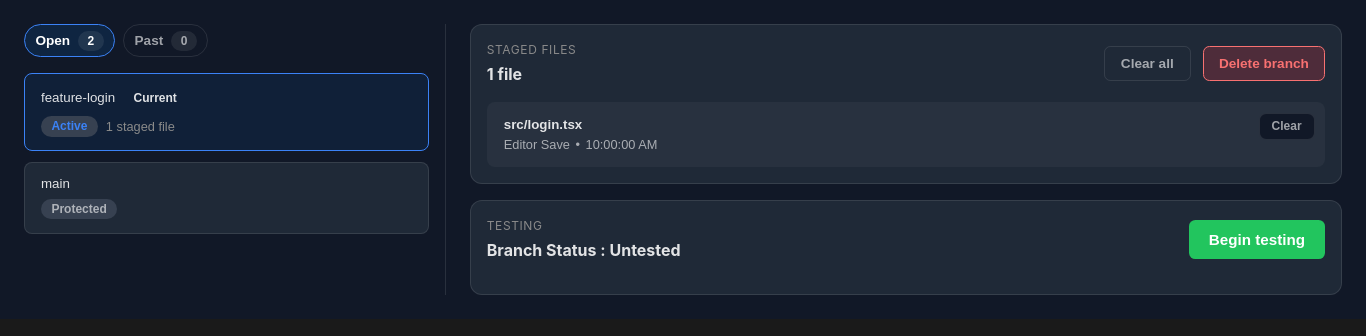
Test: BranchTab › selecting a non-current branch does not show staged files from another branch
The width and height of the screenshot is (1366, 336).
What coordinates should you click on to do the following:
click the button with test id "branch-list-item-main"
I would click on:
 (79, 209)
Its box is [24, 162, 429, 234].
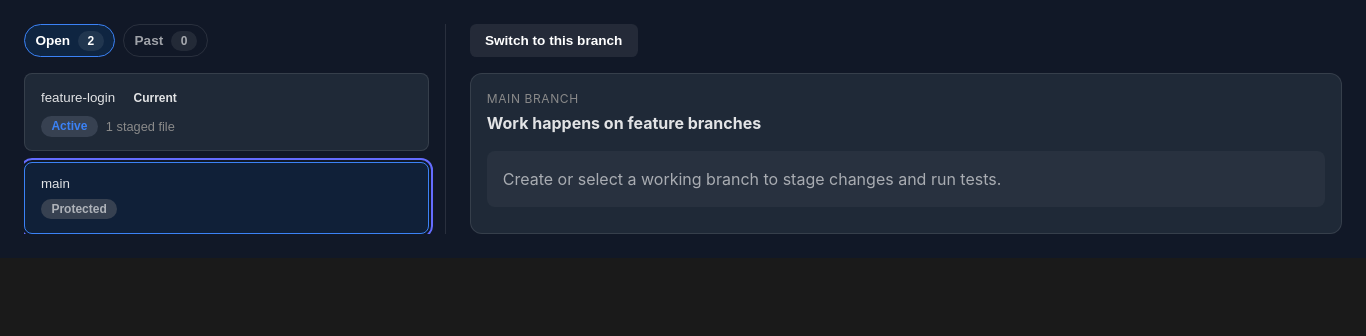
Check: the element with test id "branch-main-info" is shown, box [470, 73, 1342, 234]
Check: the button with test id "branch-file-src-login-tsx" is gone
Check: the element with test id "branch-begin-testing-card" is gone
